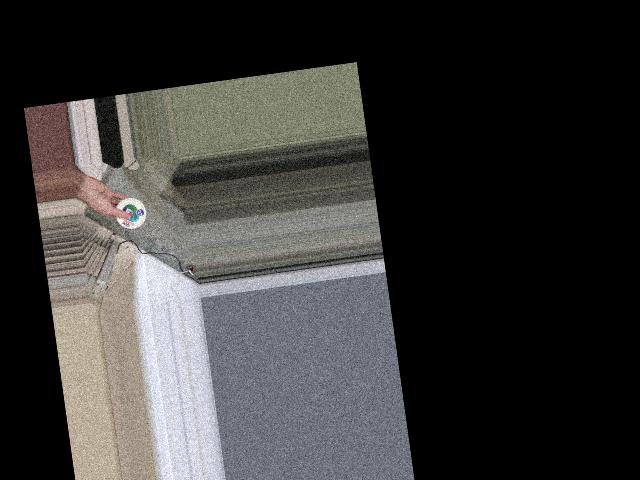cotage: (113, 196, 146, 229)
